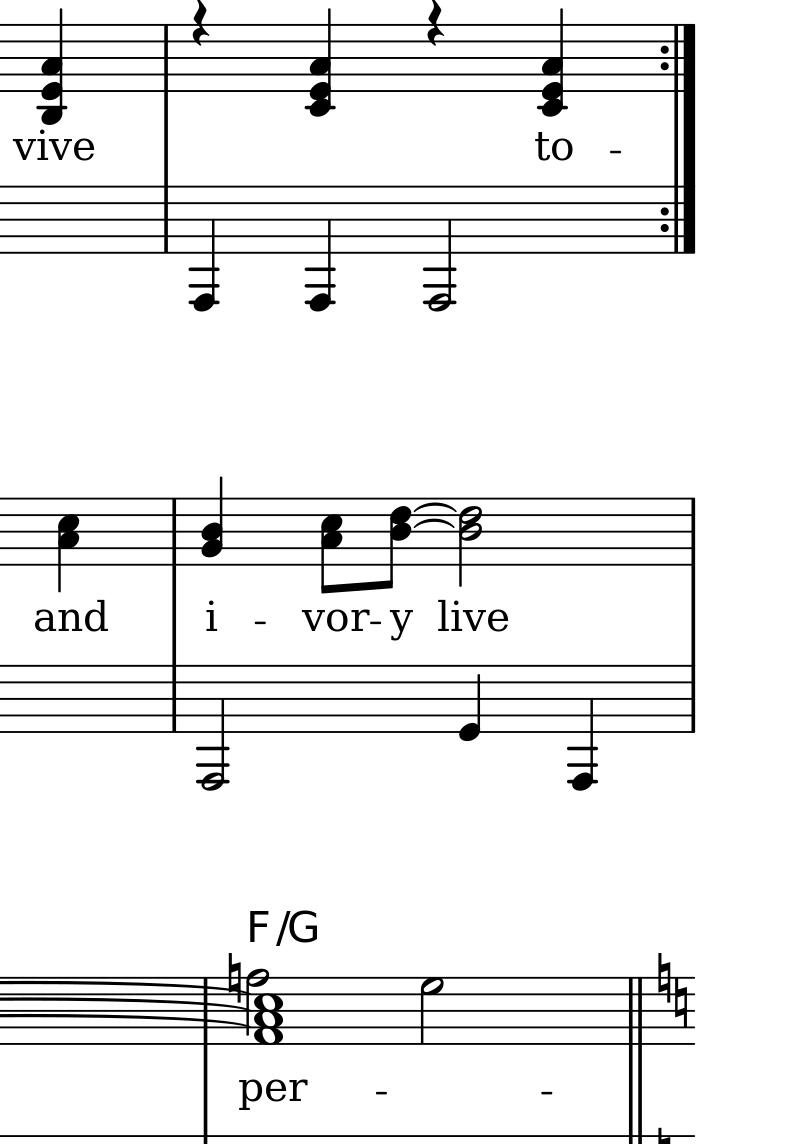1_th: (253, 975, 287, 1049)
2_-6: (194, 660, 229, 795), (425, 181, 455, 314)
2_4_6: (458, 497, 482, 587)
2_7: (417, 973, 444, 1047)
4_-6: (565, 662, 599, 793), (189, 183, 220, 313), (306, 181, 335, 314)
4_0: (457, 663, 484, 744)
4_2_4: (200, 475, 225, 569)
4_3_5: (57, 497, 81, 595)
4_th: (37, 7, 68, 128), (305, 2, 335, 118), (537, 8, 568, 120)
8_3_5: (320, 496, 343, 596)
8_4_6: (384, 496, 413, 589)
Natural: (223, 951, 243, 1005), (655, 948, 670, 1005), (674, 975, 689, 1032)
Rests4: (426, 1, 445, 52), (191, 1, 209, 51)
RightRepeatSign: (658, 22, 703, 94), (657, 184, 700, 255)
Single_barline: (156, 185, 176, 253), (156, 26, 176, 91), (165, 497, 184, 565), (683, 498, 702, 565), (165, 665, 183, 731), (683, 665, 701, 731), (197, 978, 214, 1043)
Slur: (412, 502, 457, 521), (413, 512, 458, 531)
